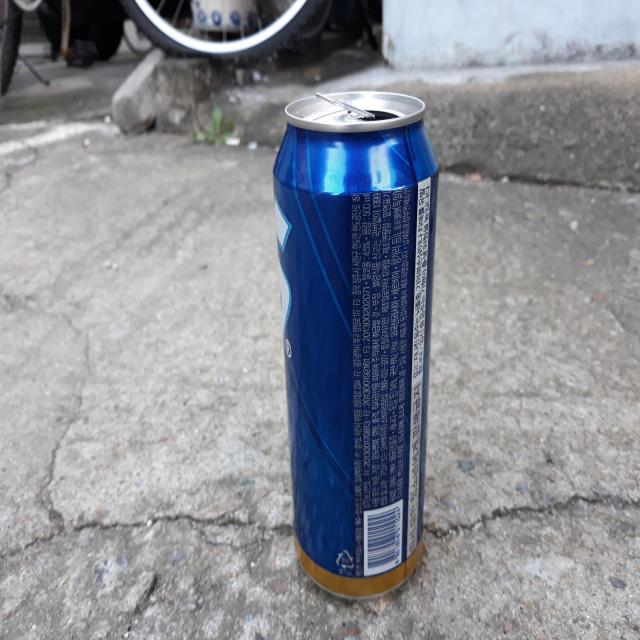can: (273, 90, 439, 598)
